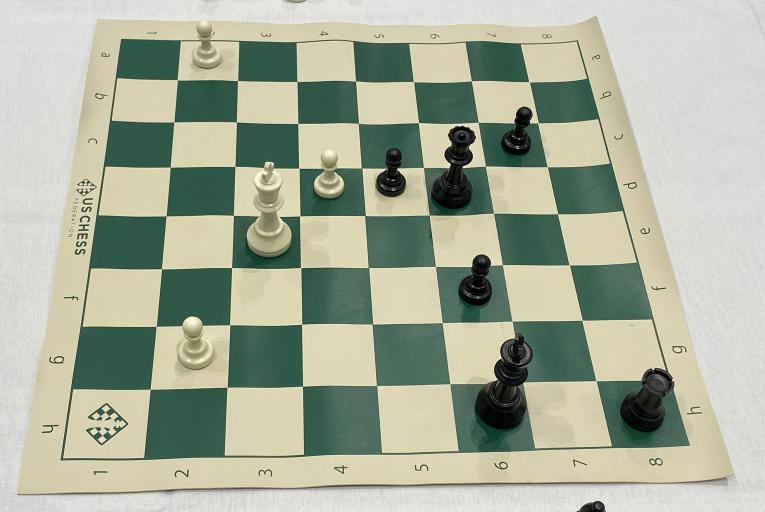black-king: (472, 329, 537, 437)
black-pawn: (452, 249, 499, 313), (496, 102, 540, 161), (372, 147, 412, 203)
black-queen: (425, 122, 480, 217)
black-rook: (613, 362, 678, 438)
white-king: (239, 160, 301, 262)
white-pawn: (169, 312, 220, 372), (183, 18, 231, 74), (306, 145, 349, 204)
